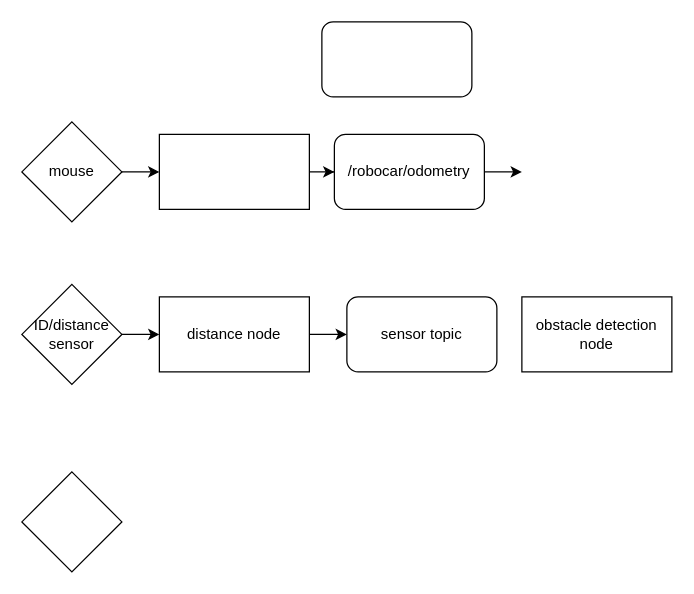
The diagram is 694 pixels wide and 594 high, and some of its shapes have lost their labels. Each missing label, with the centre of its shape:
/ <simulator>/odometry: point (396, 59)
Camera: point (71, 521)
mouse odometry node: point (233, 171)
